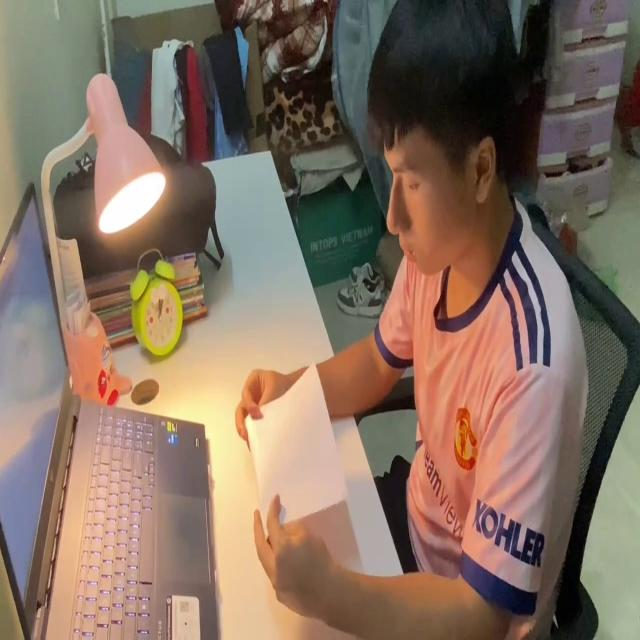book: (241, 359, 353, 570)
laptop: (0, 172, 220, 640)
student: (231, 2, 593, 640)
